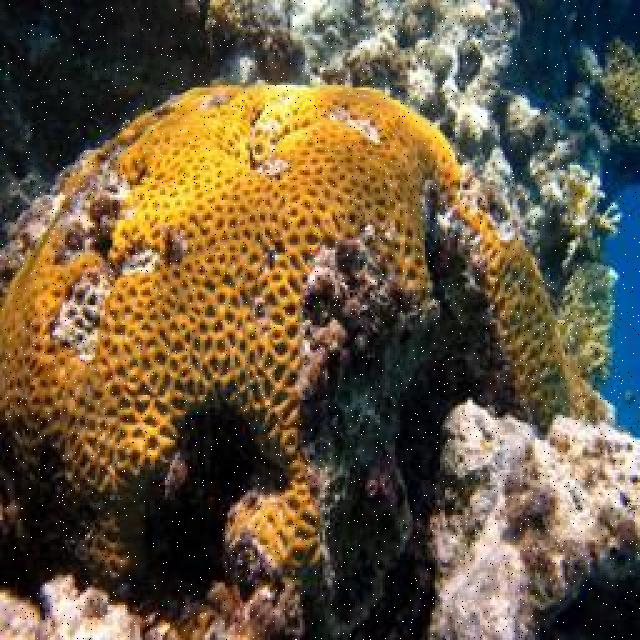reefs: (0, 78, 618, 638)
